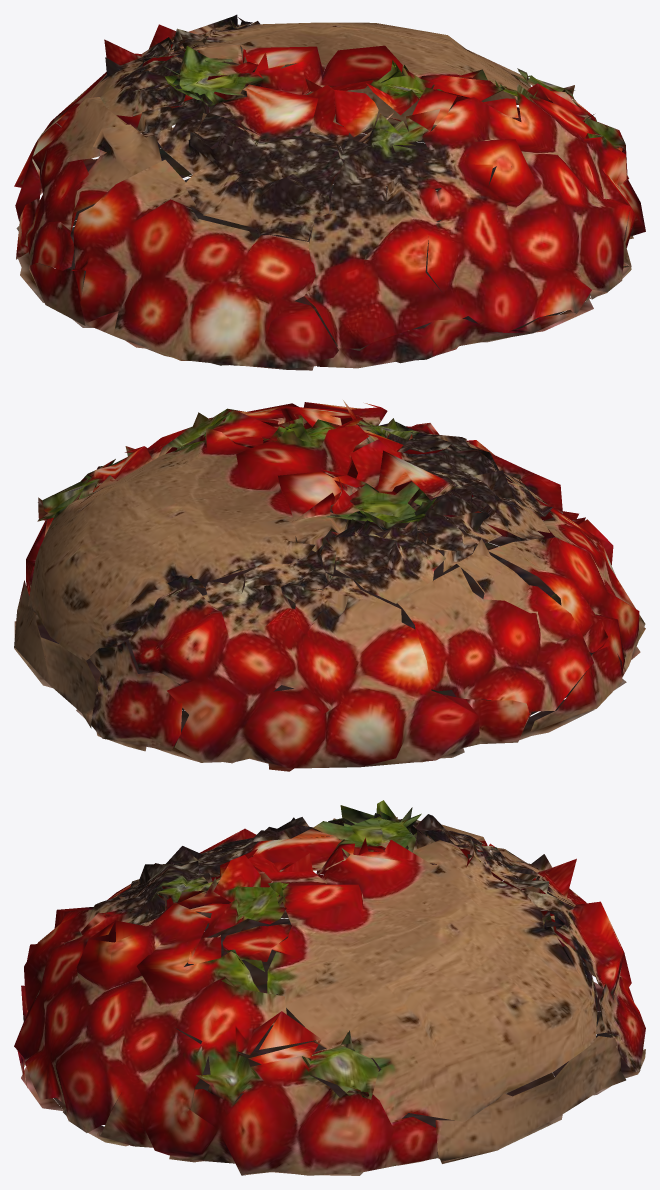
The model's file is isl_cake2.glb.
The picture shows the model from 3 angles, top to bottom: view 1: azimuth 30°, elevation 25°; view 2: azimuth 150°, elevation 25°; view 3: azimuth 270°, elevation 25°; orthographic projection. The views are drawn at different scales.
Visible parts, largest first — view 1: strawberry_chocolate_cake; view 2: strawberry_chocolate_cake; view 3: strawberry_chocolate_cake.
Part boxes in pixels (bbox=[...]): strawberry_chocolate_cake: bbox=[14, 14, 645, 370]; strawberry_chocolate_cake: bbox=[14, 400, 645, 771]; strawberry_chocolate_cake: bbox=[14, 800, 645, 1175].
Bounding box in the file's own units: 0.2408 × 0.0799 × 0.2378.
Materials: 1 (1 with a texture image).
